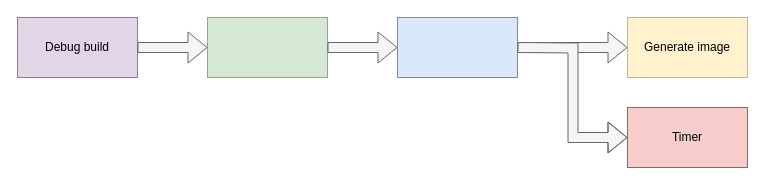
Image size: 765x185. Some labels were removed from this diagram. The centre of each missing label's shape, as x and y in pixels:
Release build: (x=457, y=47)
Unit tests: (x=267, y=47)
